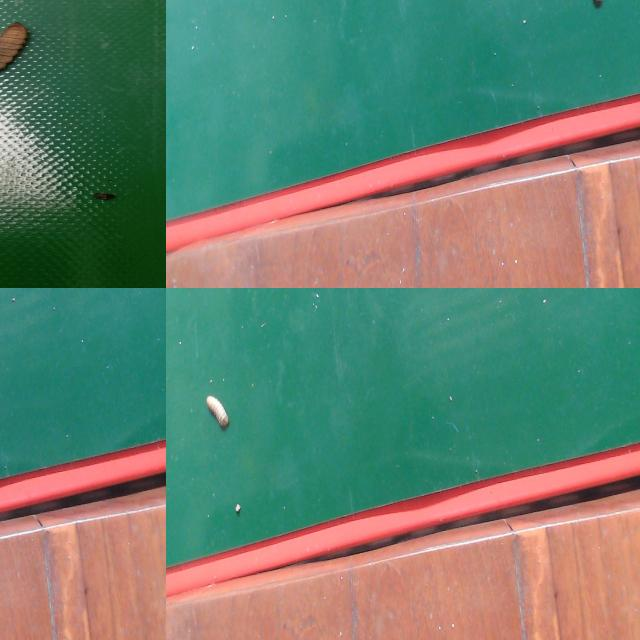Maggot: (0, 23, 31, 76), (203, 395, 230, 431)
